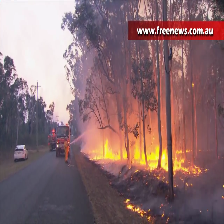fire_h: (92, 139, 206, 177), (125, 198, 151, 216)
fire_l: (179, 178, 192, 187), (147, 216, 153, 222), (161, 213, 164, 217)
